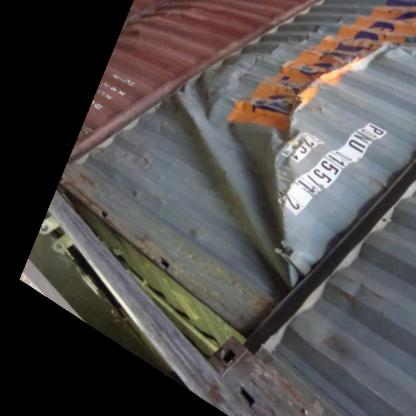Damage: (157, 65, 261, 241), (277, 26, 409, 144), (264, 126, 310, 312)
